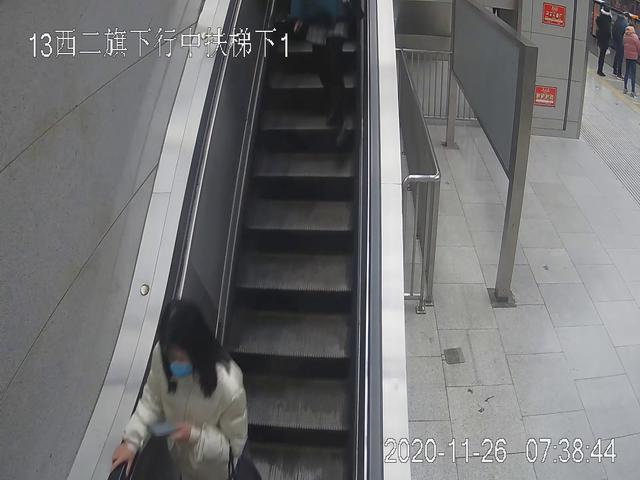person: (113, 301, 248, 480), (619, 25, 640, 97), (592, 3, 612, 77), (609, 11, 631, 78)
